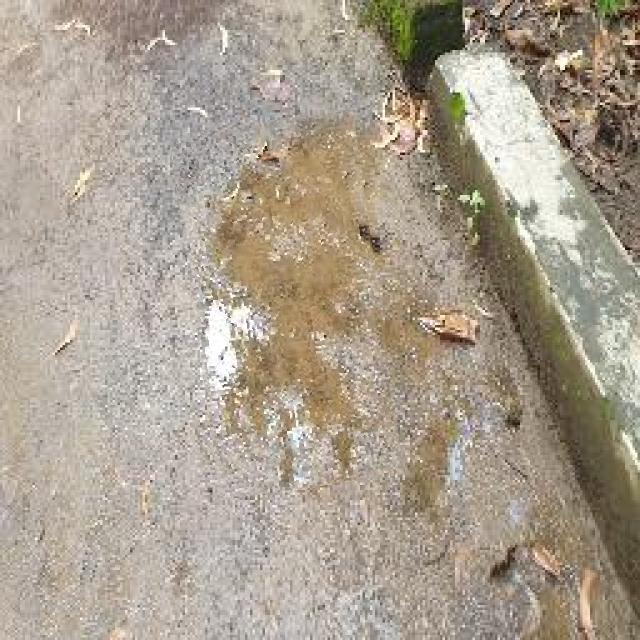puddle: (182, 117, 393, 495)
